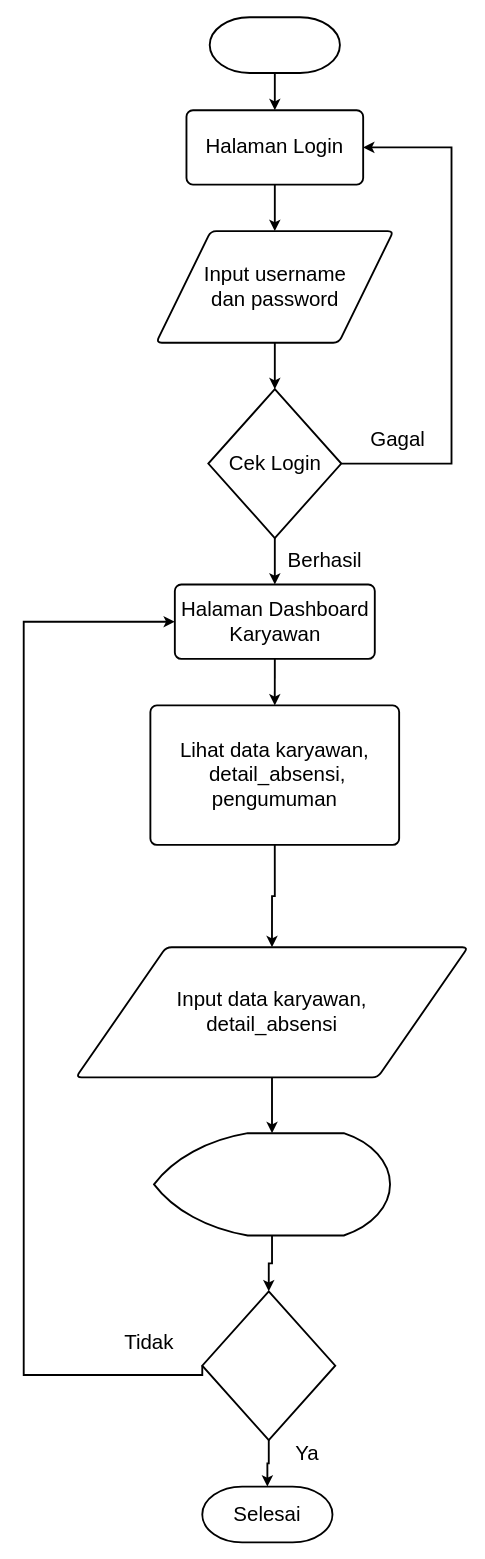
Some shapes in this 485 by 1559 pixel diagram are drawn without their labels. The shapes that lost their labels are listed below. From the top down, each one's centre as x and y in pixels, then its label:
At pixel 274 44: "Mulai".
At pixel 272 1184: "Data Laporan".
At pixel 268 1365: "Logout".
